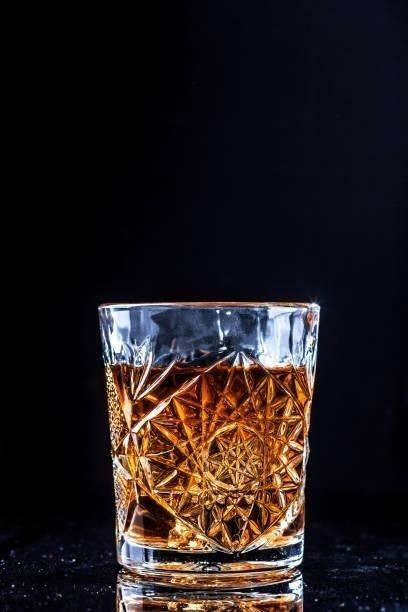glass-normal: (94, 298, 324, 580)
